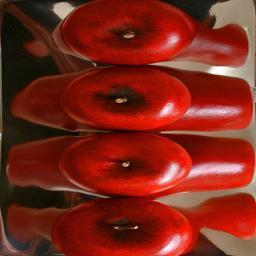apple: (59, 64, 193, 130), (59, 131, 193, 197), (59, 1, 193, 66), (51, 197, 193, 253)
